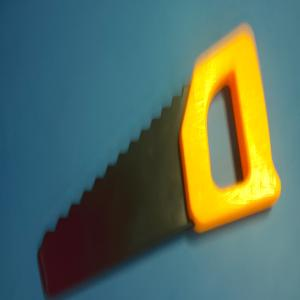serrote: (36, 22, 283, 300)
